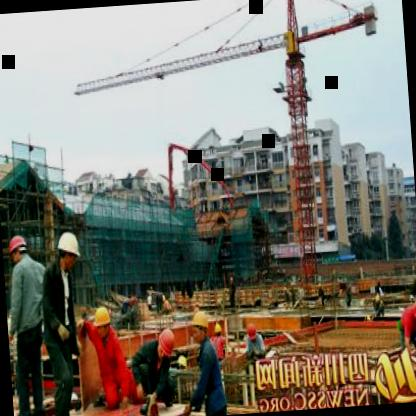helmet: (54, 229, 82, 274), (151, 324, 178, 362), (186, 306, 210, 348), (90, 302, 114, 342), (4, 234, 30, 270), (244, 322, 262, 345), (409, 294, 416, 328)
